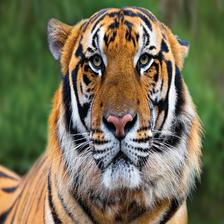tiger: (43, 2, 207, 224)
